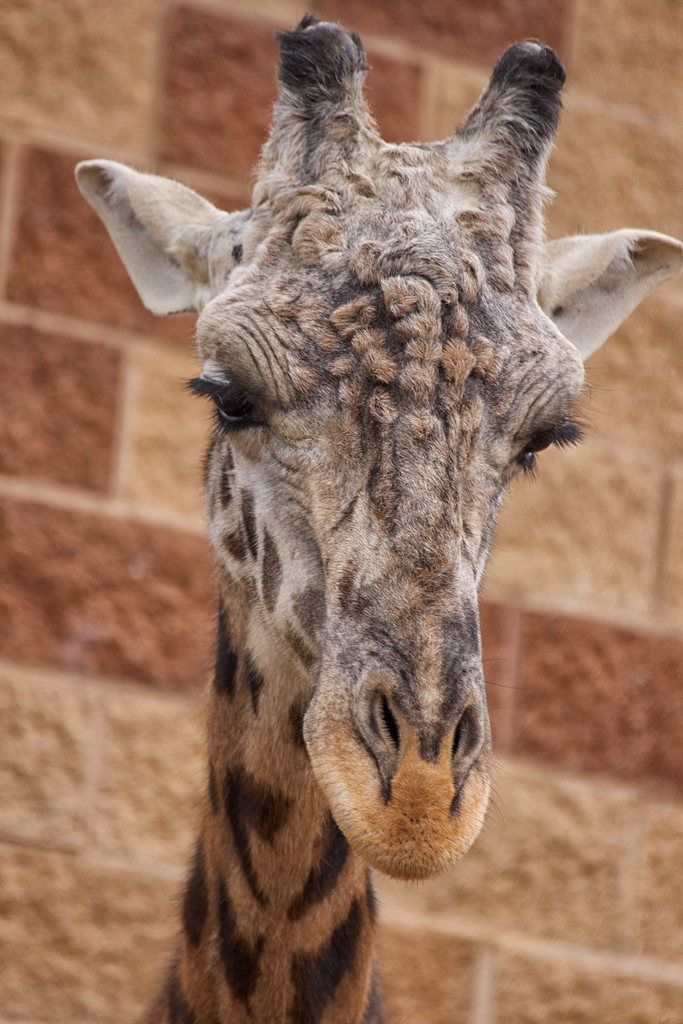giraffe: (111, 7, 646, 1002)
